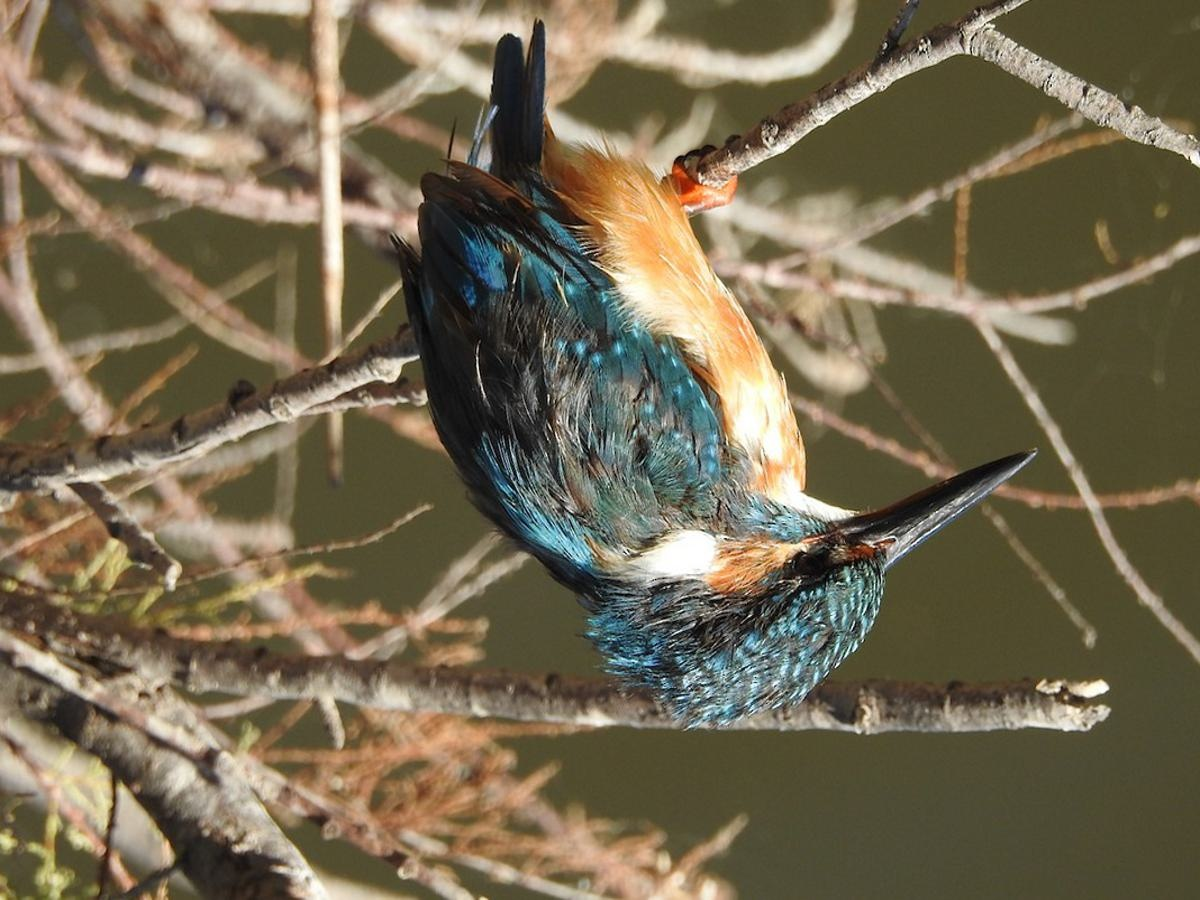kingfisher: (399, 20, 1064, 725)
